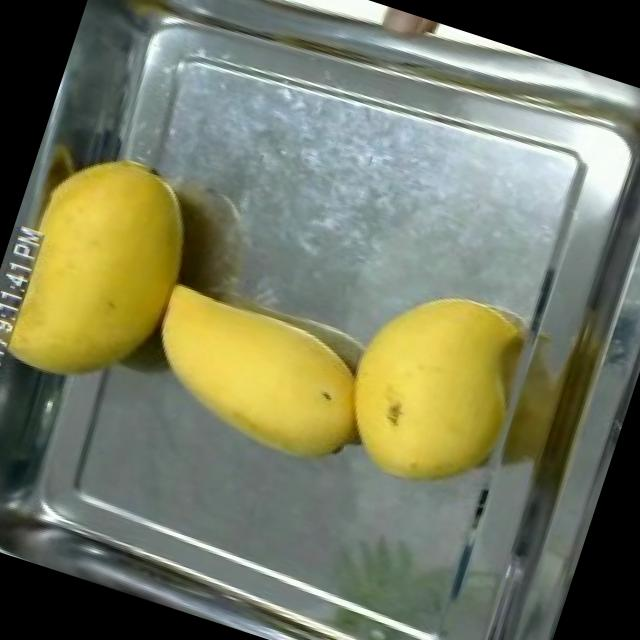fruit: (0, 124, 225, 417), (318, 257, 552, 515), (122, 266, 392, 488)
